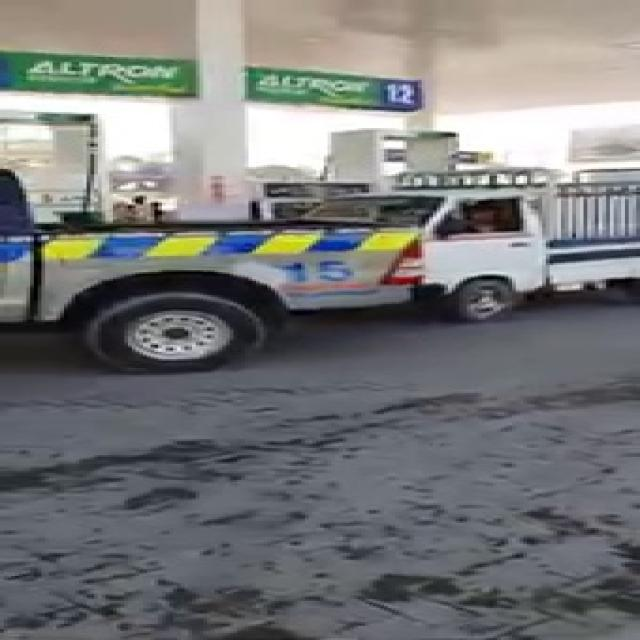police: (0, 182, 455, 348)
